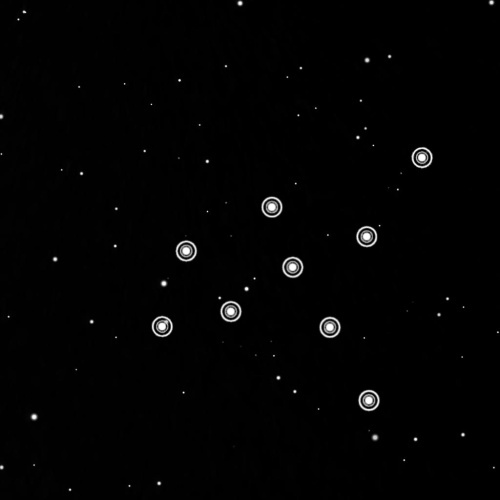cygnus: (145, 138, 440, 418)
